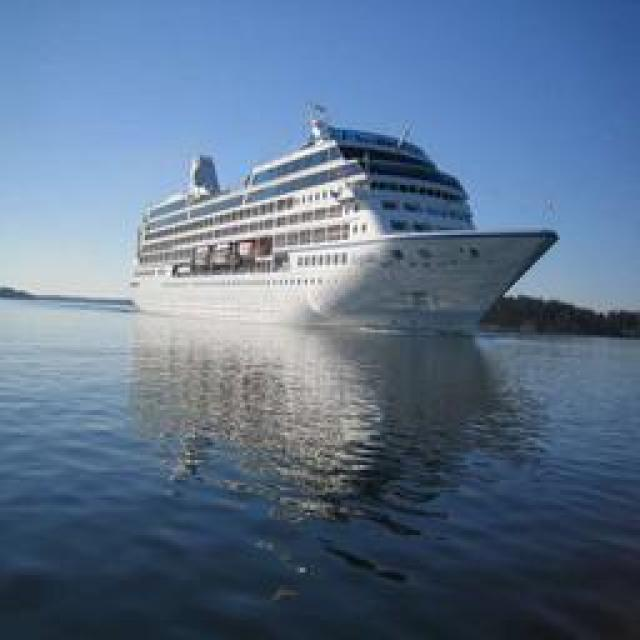ship2: (129, 105, 558, 335)
